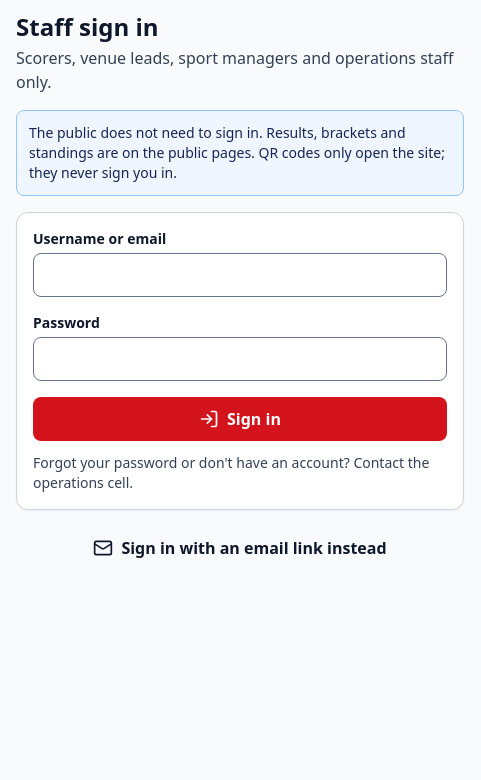
Test case: SignIn › keeps the email link as a backup option
expect the button "Email me a sign-in link" is not shown: met
Click the button "Sign in with an email link instead": (240, 548) x1=16 y1=526 x2=464 y2=570
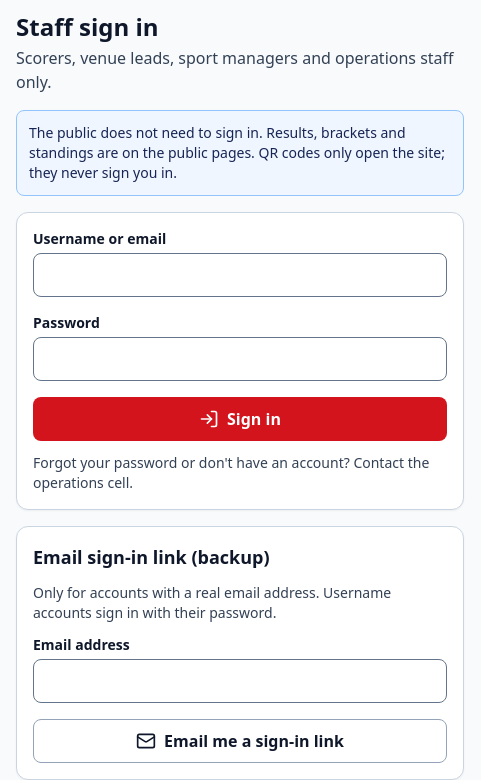
expect the button "Email me a sign-in link" is shown: met, box x1=33 y1=719 x2=447 y2=763
